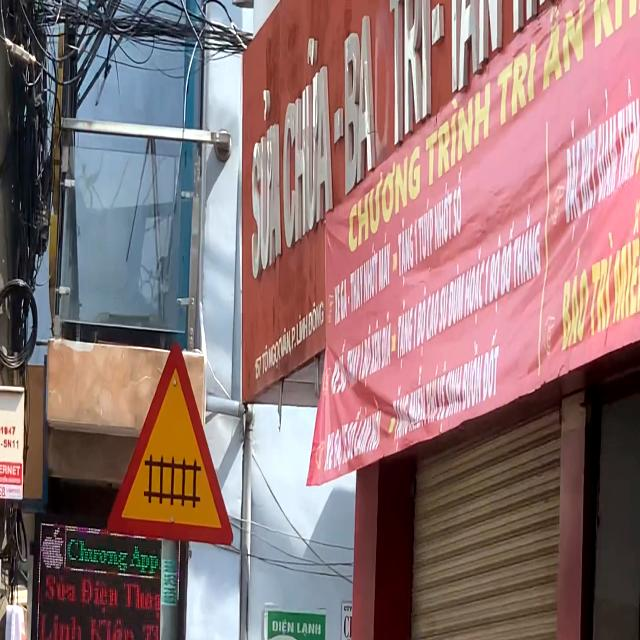W.210: (104, 339, 235, 550)
